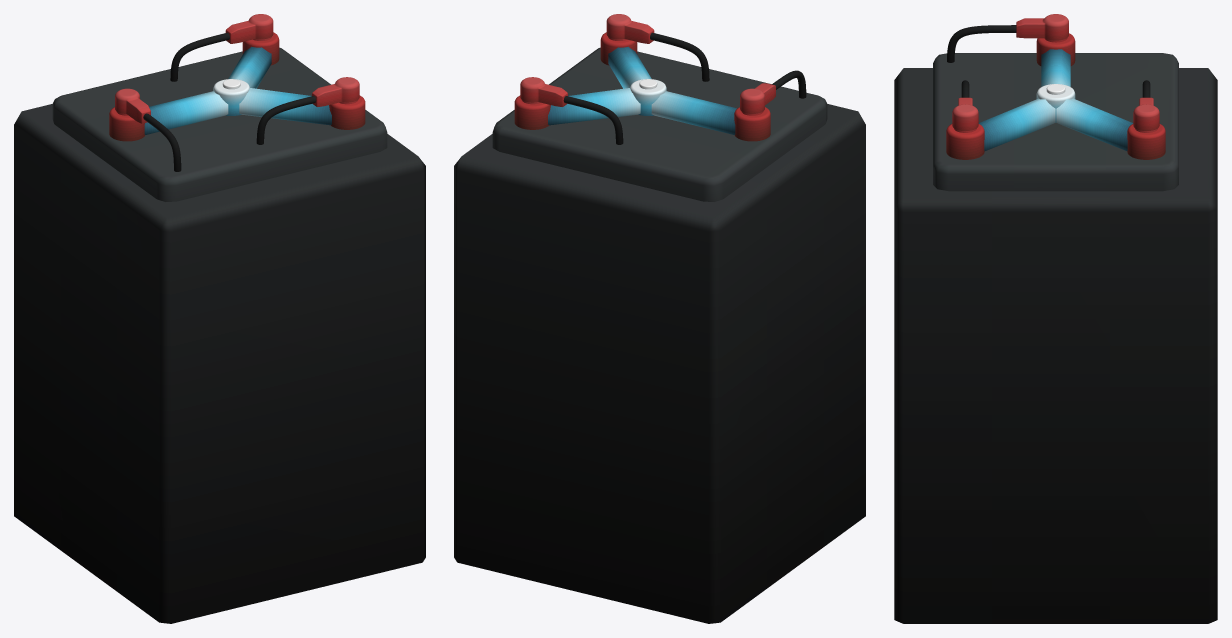
The model's file is Flux_capacitor.fbx.
The picture shows the model from 3 angles, left to right: view 1: azimuth 30°, elevation 25°; view 2: azimuth 150°, elevation 25°; view 3: azimuth 270°, elevation 25°; orthographic projection. The views are drawn at different scales.
Visible parts, largest first — view 1: Flux Capacitor; view 2: Flux Capacitor; view 3: Flux Capacitor.
Boxes of the visible parts, left/top/right/bottom form: Flux Capacitor: left=14, top=14, right=425, bottom=623; Flux Capacitor: left=454, top=14, right=865, bottom=623; Flux Capacitor: left=894, top=14, right=1217, bottom=623.
Bounding box in the file's own units: 0.5523 × 0.5523 × 0.9251.
